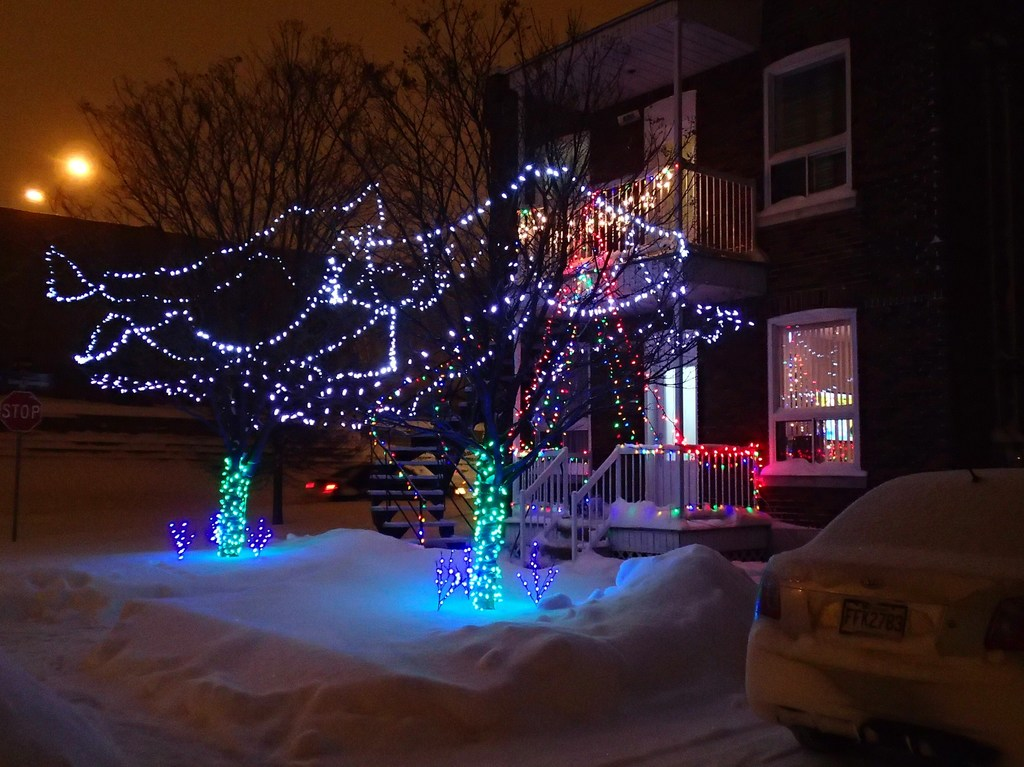Car: (740, 459, 1022, 752)
